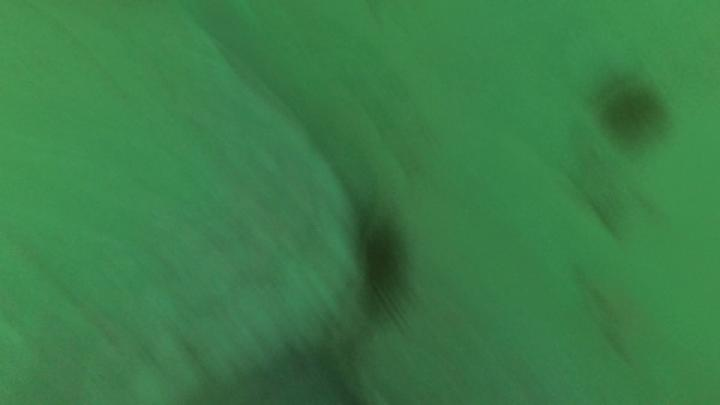echinus: (349, 201, 413, 327), (597, 75, 671, 150)
